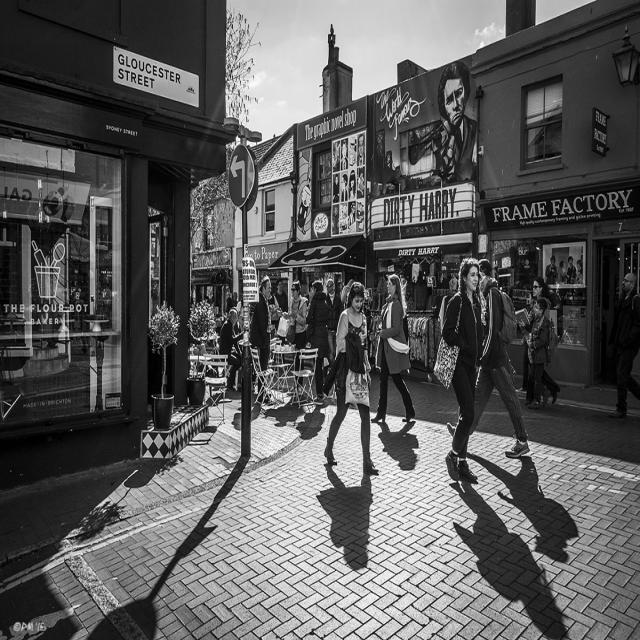body: (443, 445, 588, 640), (446, 256, 532, 459), (431, 255, 488, 484), (322, 279, 380, 477), (405, 54, 484, 188), (312, 458, 376, 584), (206, 383, 328, 447), (369, 272, 416, 423), (517, 275, 561, 407), (608, 270, 640, 421), (276, 278, 309, 397), (526, 297, 558, 409), (248, 274, 274, 407), (332, 133, 364, 234), (305, 279, 329, 404), (374, 420, 424, 480), (514, 291, 538, 395), (218, 308, 246, 392), (372, 270, 426, 310), (323, 278, 344, 370), (272, 276, 289, 369), (304, 278, 319, 383), (337, 283, 354, 375), (543, 249, 583, 284), (267, 294, 281, 339), (236, 296, 246, 342), (224, 290, 239, 320), (347, 278, 354, 290)
